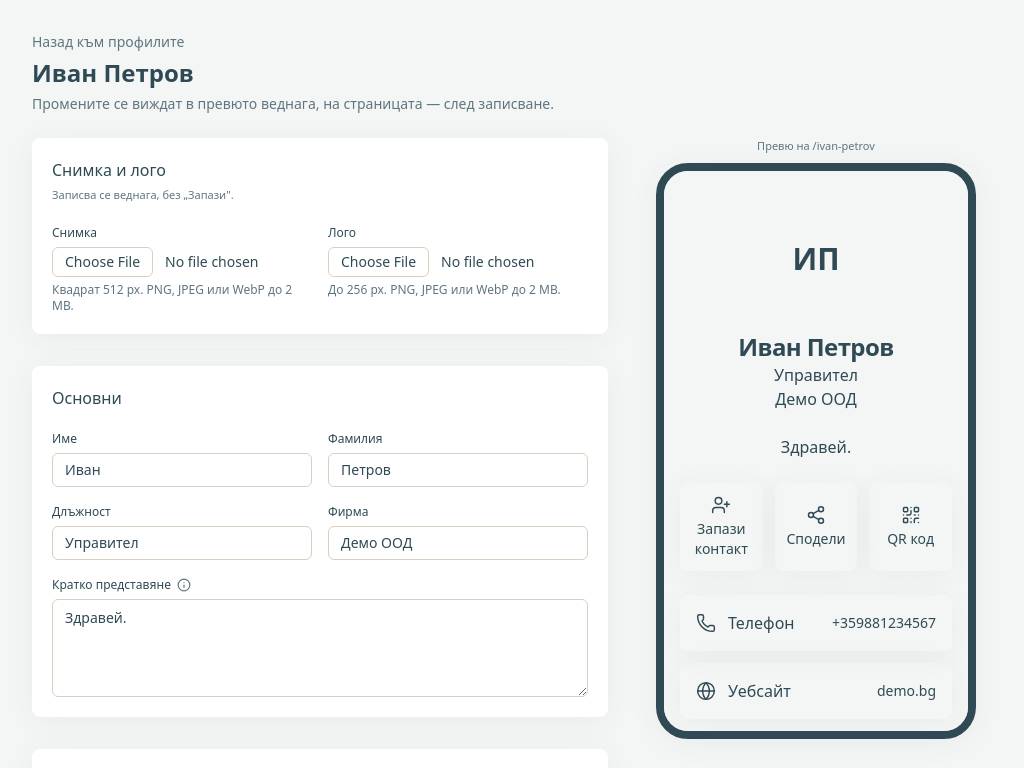
Test: ProfileEditor › sends the whole profile with all links and resets to the returned DTO
Replace the text in the field labelled "Име" with "Йоан": coordinates (182, 470) top-left (52, 452), bottom-right (312, 486)
(page scrolled)
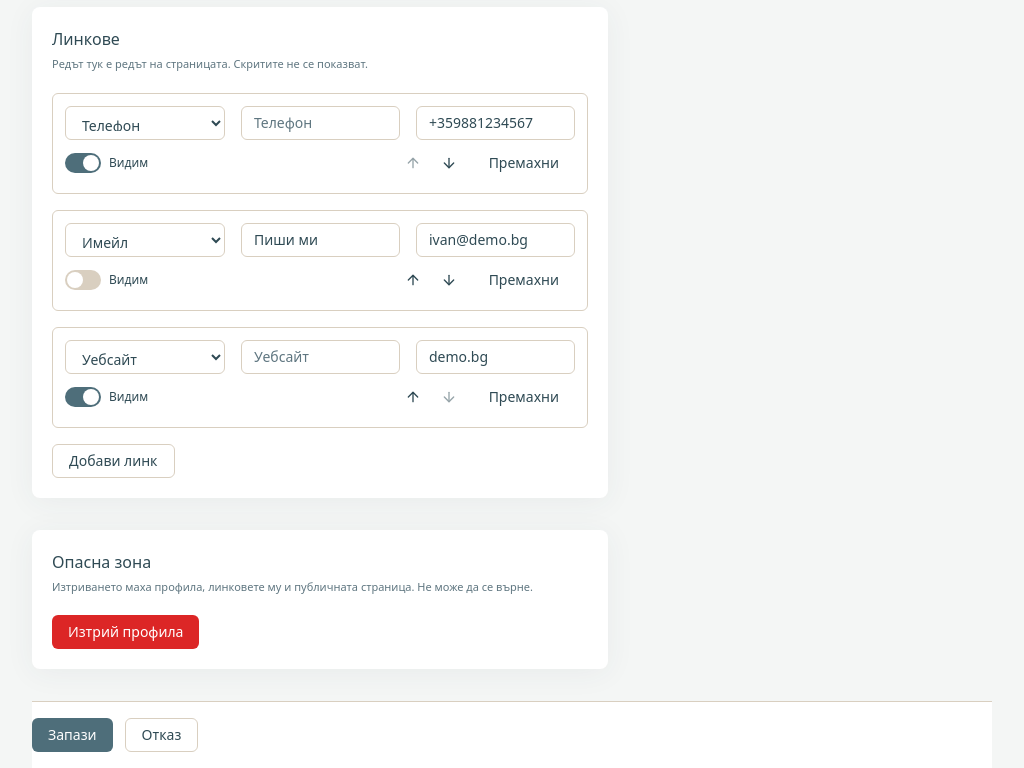
Click the button "Запази": coordinates (72, 735) top-left (32, 718), bottom-right (112, 752)
(page scrolled)
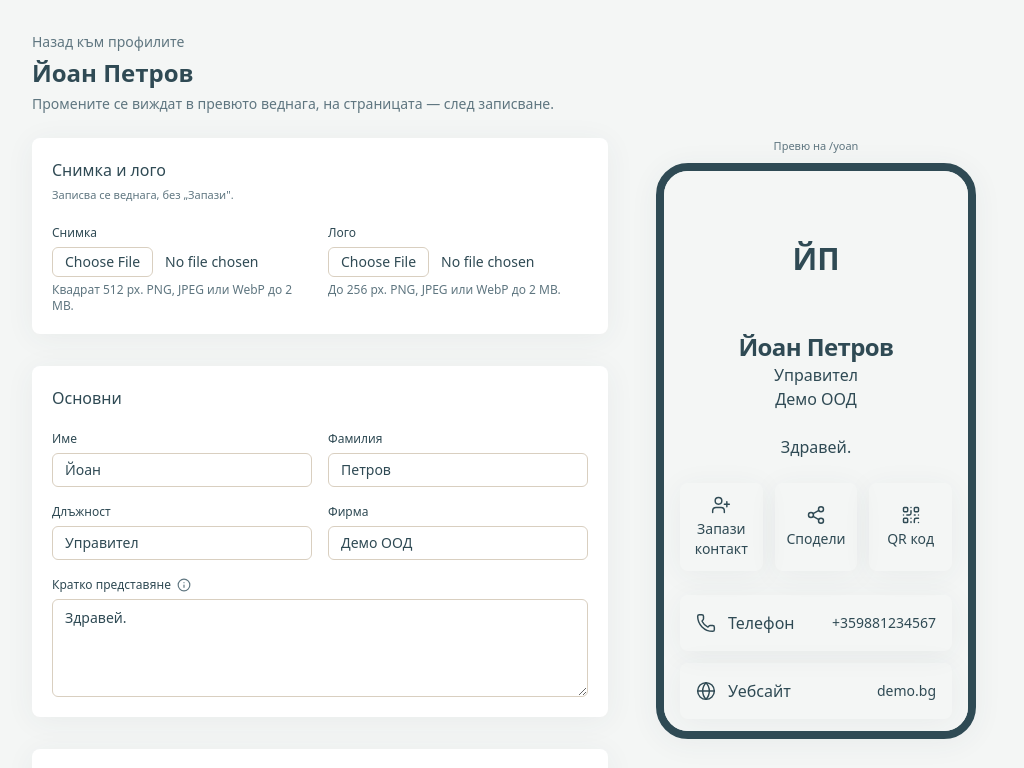
expect the text "Управител" is shown: met, box top-left (774, 364), bottom-right (858, 386)
expect the text "Превю на /yoan" is shown: met, box top-left (774, 138), bottom-right (858, 154)
